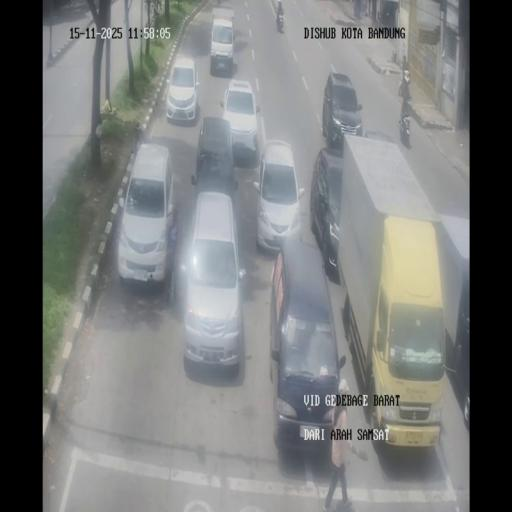car: (268, 237, 340, 451), (179, 191, 245, 372), (117, 141, 175, 287), (254, 136, 303, 254), (310, 147, 344, 280), (192, 116, 235, 194), (322, 71, 362, 148), (166, 56, 200, 124), (209, 16, 235, 75)
motorcycle: (398, 102, 410, 148), (398, 69, 411, 101), (277, 12, 284, 32), (362, 0, 368, 17)
truck: (335, 134, 462, 447), (452, 272, 470, 437)
